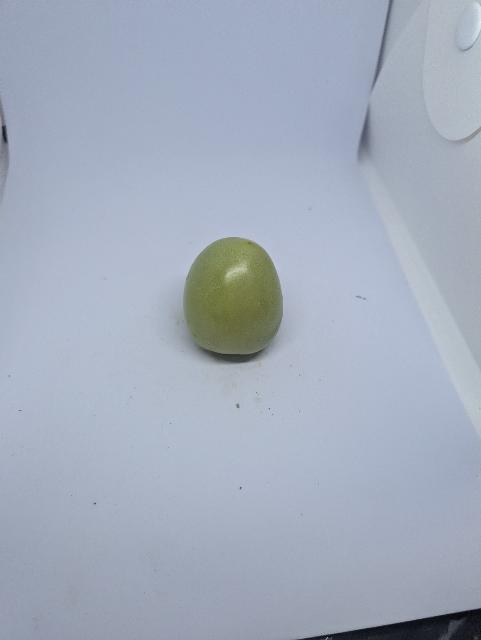green: (180, 234, 289, 359)
